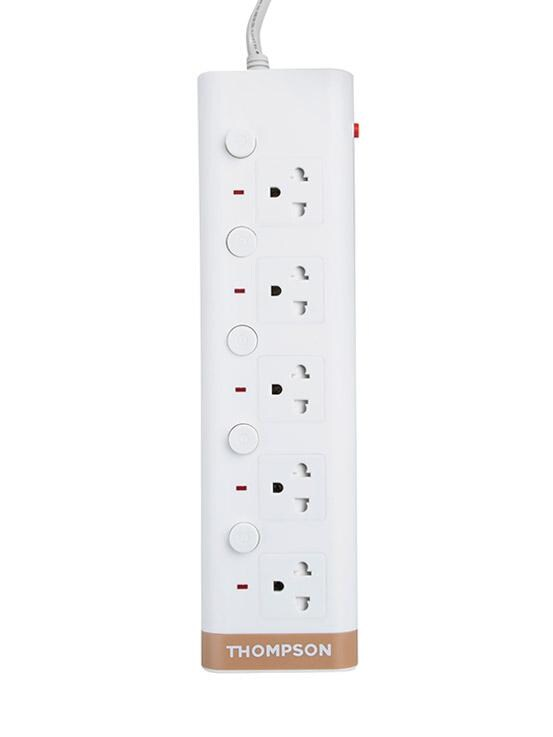Three_eye_plug: (185, 55, 367, 679)
